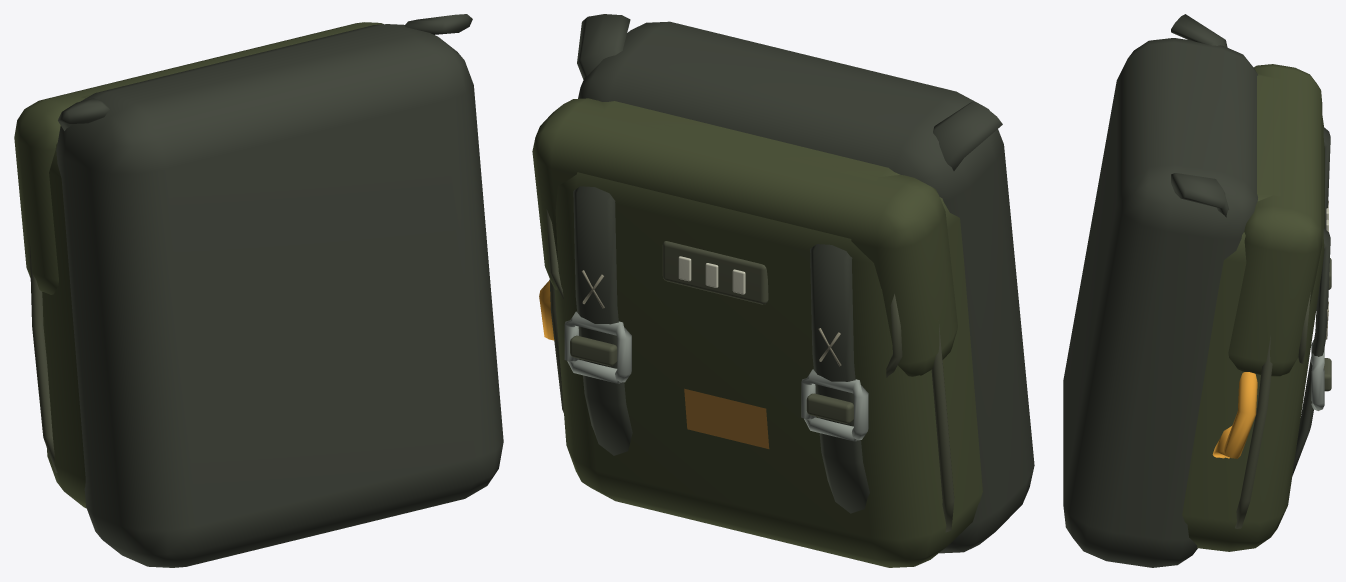
File: pwr_pack.gltf
3 views of the same model, side by side, from view 1: azimuth 30°, elevation 25°; view 2: azimuth 150°, elevation 25°; view 3: azimuth 270°, elevation 25° (orthographic). The views are drawn at different scales.
Visible parts, largest first — view 1: pwr_pack; view 2: pwr_pack; view 3: pwr_pack.
Boxes of the visible parts, x1,y1,x2,y2 form: pwr_pack: (14,14,503,567); pwr_pack: (532,14,1034,567); pwr_pack: (1063,14,1331,567).
Bounding box in the file's own units: 0.5578 × 0.5711 × 0.3435.
